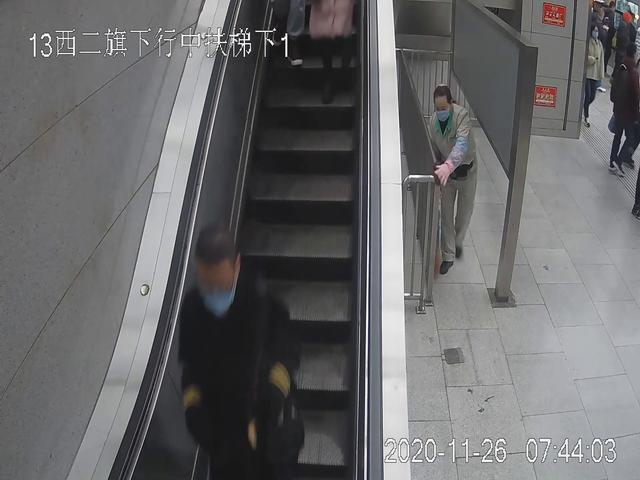person: (176, 229, 306, 480), (429, 83, 483, 278), (611, 50, 640, 174), (581, 22, 608, 128)
